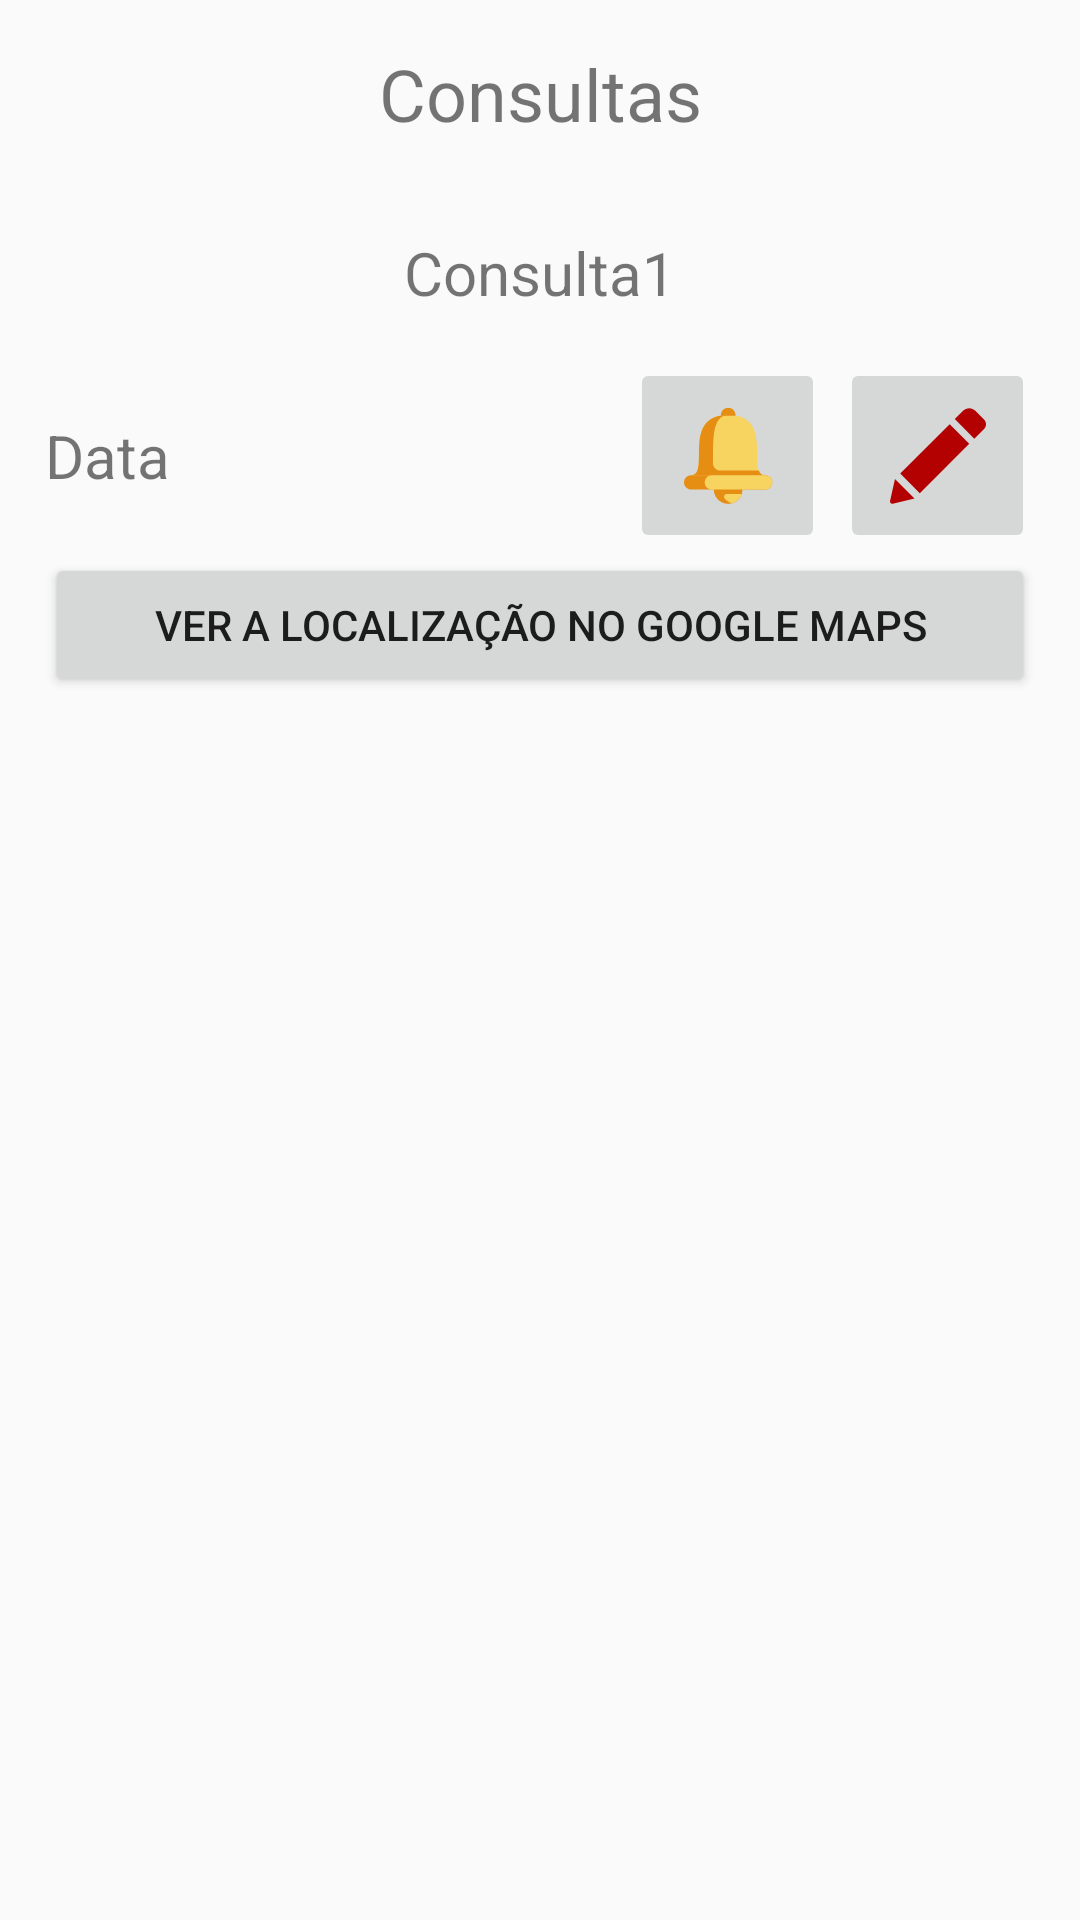

Locate icon controls on the screen. Image size 1080×1920, boxes as bbox=[x1, y1, x2, y2].
edit: bbox=[852, 376, 1023, 535]
notifications: bbox=[642, 376, 813, 535]
